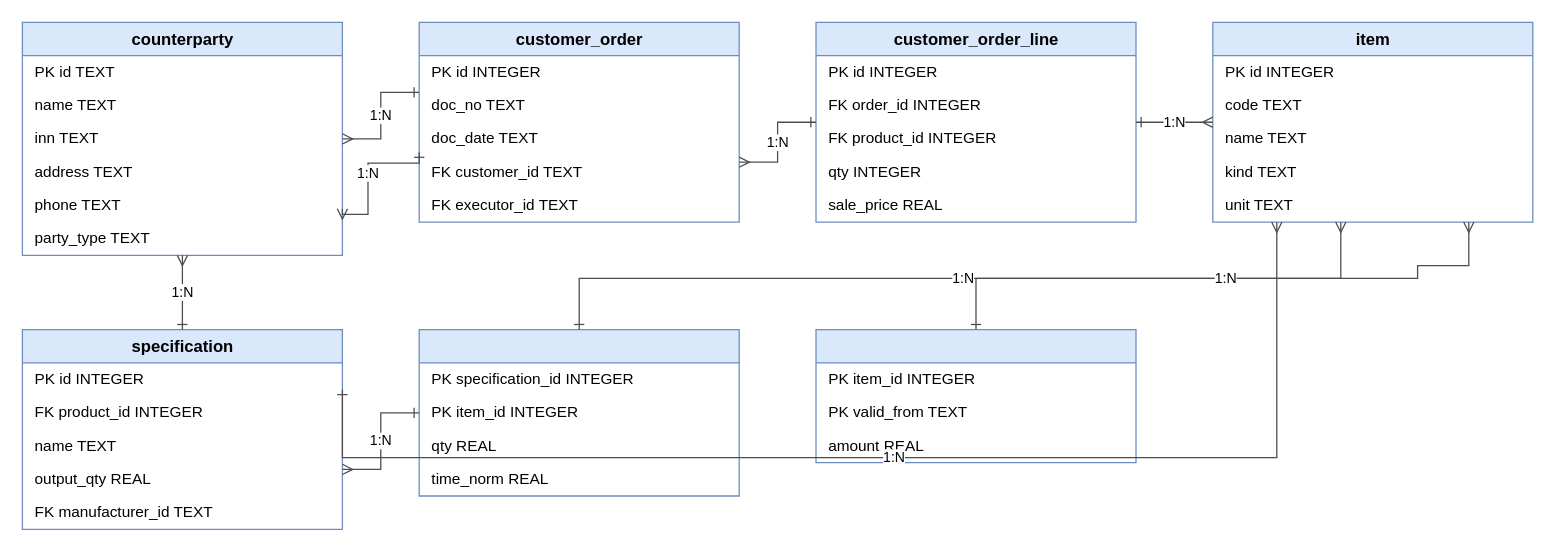
Some shapes in this 1555 by 552 pixel diagram are drawn without their labels. The box of each missing label's shape, as (x1, y1, x2, y2) in pixels:
price: (815, 328, 1136, 463)
specification_component: (418, 328, 739, 496)
